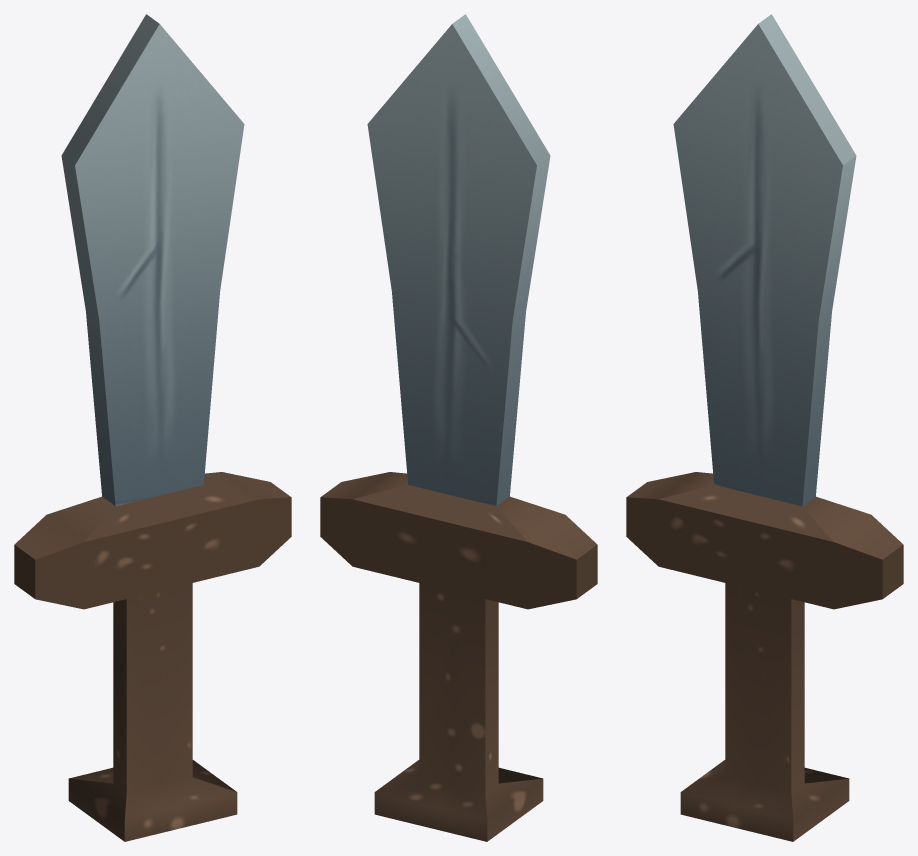
File: knight-dagger.fbx
3 views of the same model, side by side, from view 1: azimuth 30°, elevation 25°; view 2: azimuth 150°, elevation 25°; view 3: azimuth 330°, elevation 25° (orthographic).
Parts seen in each view (by area): view 1: pCube12; view 2: pCube12; view 3: pCube12.
Part boxes in pixels (x1,y1,x2,y2): pCube12: (14, 14, 291, 841); pCube12: (320, 14, 597, 841); pCube12: (626, 14, 903, 841).
Bounding box in the file's own units: 0.1832 × 0.5389 × 0.0697.
Materials: 1 (1 with a texture image).
